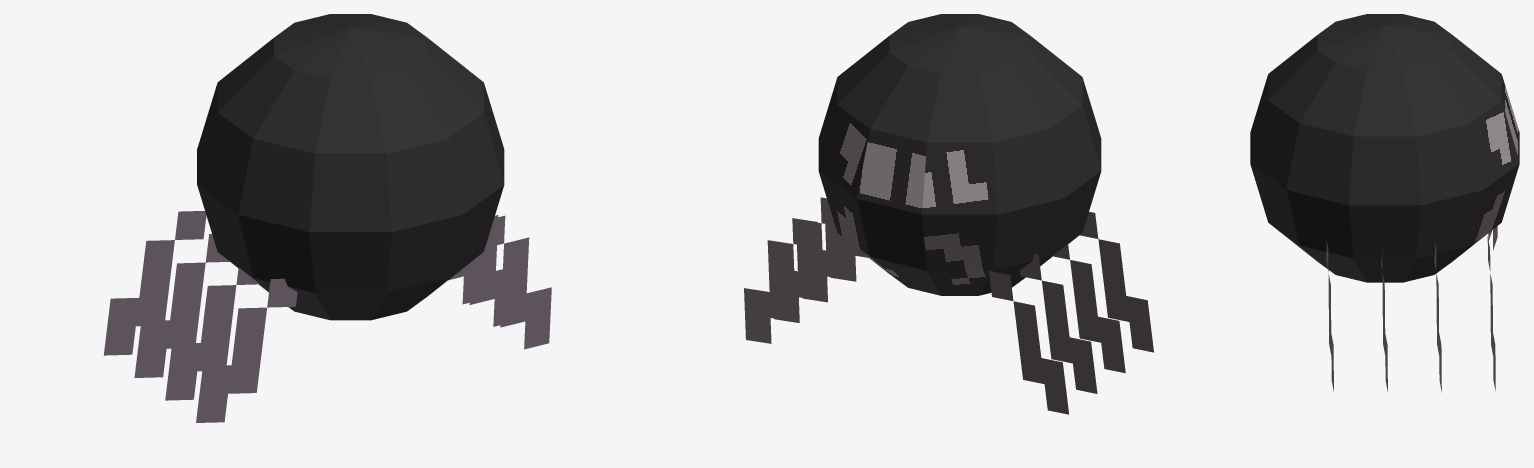
The model's file is spiderkid.gltf.
The picture shows the model from 3 angles, left to right: view 1: azimuth 30°, elevation 25°; view 2: azimuth 150°, elevation 25°; view 3: azimuth 270°, elevation 25°; orthographic projection. The views are drawn at different scales.
Parts seen in each view (by area): view 1: body, plane (×6); view 2: body, plane (×7); view 3: body, plane (×4).
Part boxes in pixels (x1,y1,x2,y2): body: [197, 14, 504, 320]; plane (×6): [103, 211, 551, 422]; body: [818, 14, 1101, 295]; plane (×7): [744, 197, 1153, 414]; body: [1250, 14, 1519, 282]; plane (×4): [1326, 236, 1495, 392].
Size of the model in its own units: 0.612 by 0.4212 by 0.3125.
2 materials, 2 textured.
